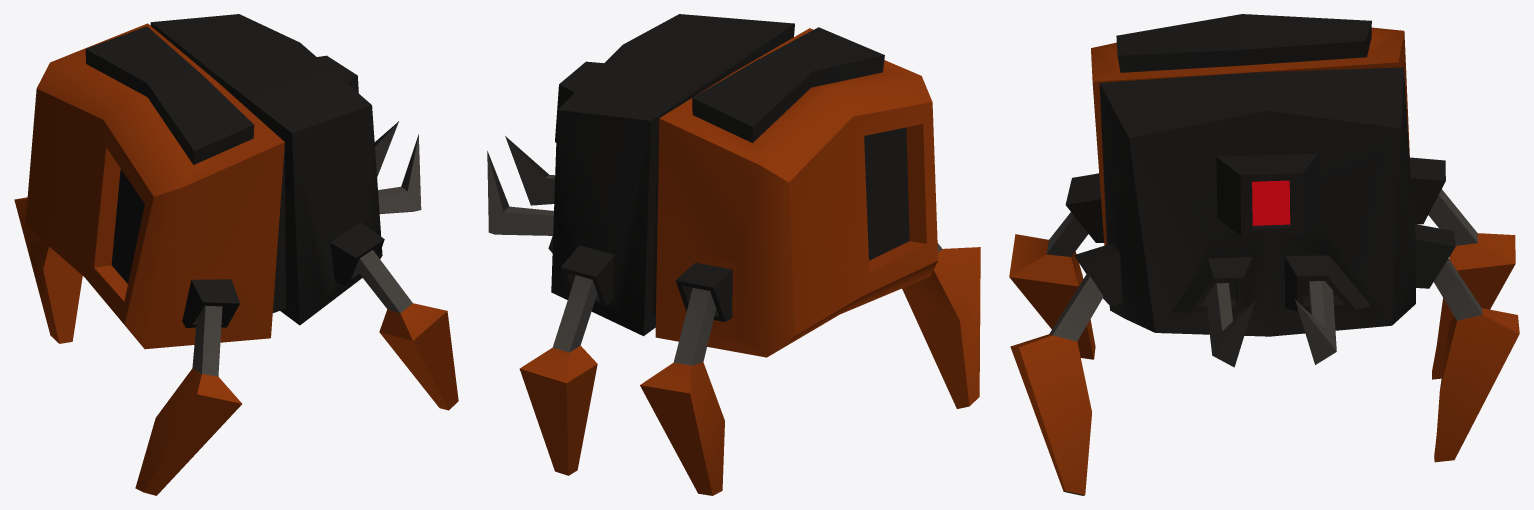
File: SPIDBOT18.obj
3 views of the same model, side by side, from view 1: azimuth 30°, elevation 25°; view 2: azimuth 150°, elevation 25°; view 3: azimuth 270°, elevation 25° (orthographic). The views are drawn at different scales.
Parts seen in each view (by area): view 1: Cube.001; view 2: Cube.001; view 3: Cube.001.
Boxes of the visible parts, <box> form: Cube.001: <box>14,14,458,495</box>; Cube.001: <box>487,14,980,495</box>; Cube.001: <box>1009,14,1519,495</box>.
Size of what is drawn, in the model's own units: 3.04 by 2.83 by 3.41.
